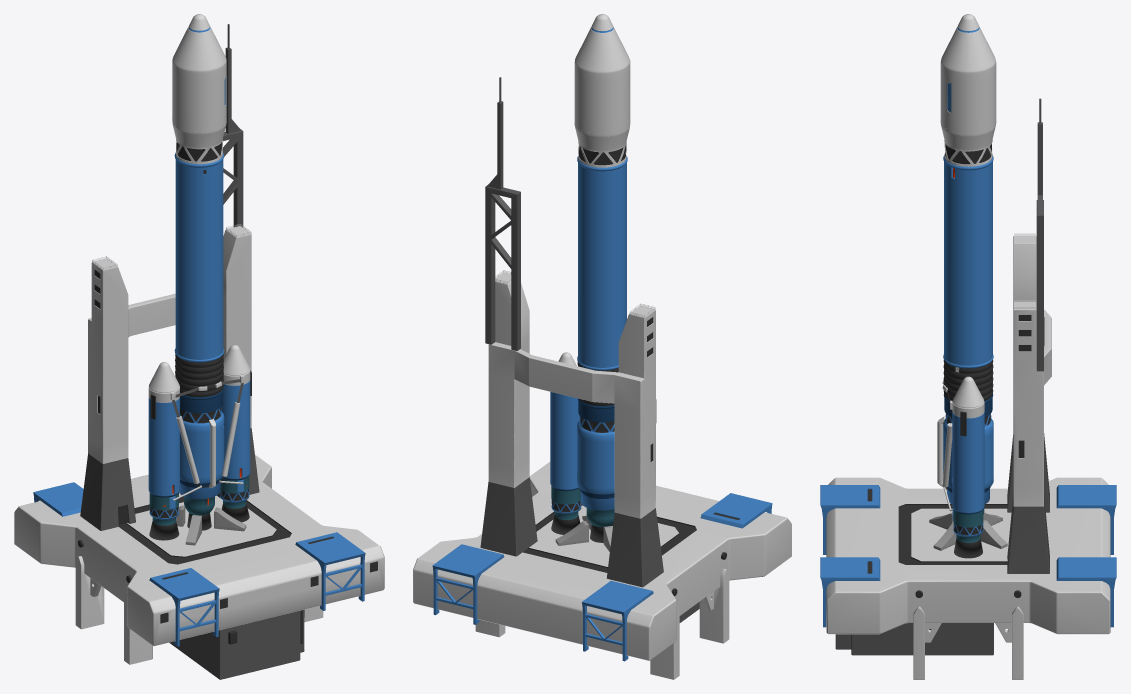
Rendered from Rocket.fbx.
3 renders of one model, left to right at view 1: azimuth 30°, elevation 25°; view 2: azimuth 150°, elevation 25°; view 3: azimuth 270°, elevation 25°, orthographic. The views are drawn at different scales.
Visible parts, largest first — view 1: base, body; view 2: base, body; view 3: base, body.
Boxes of the visible parts, x1,y1,x2,y2 form: base: (14,24,384,679); body: (148,14,251,540); base: (413,77,791,679); body: (550,14,656,542); base: (820,98,1116,679); body: (937,14,996,558).
Size of the model in its own units: 22.68 by 56.68 by 24.64.
